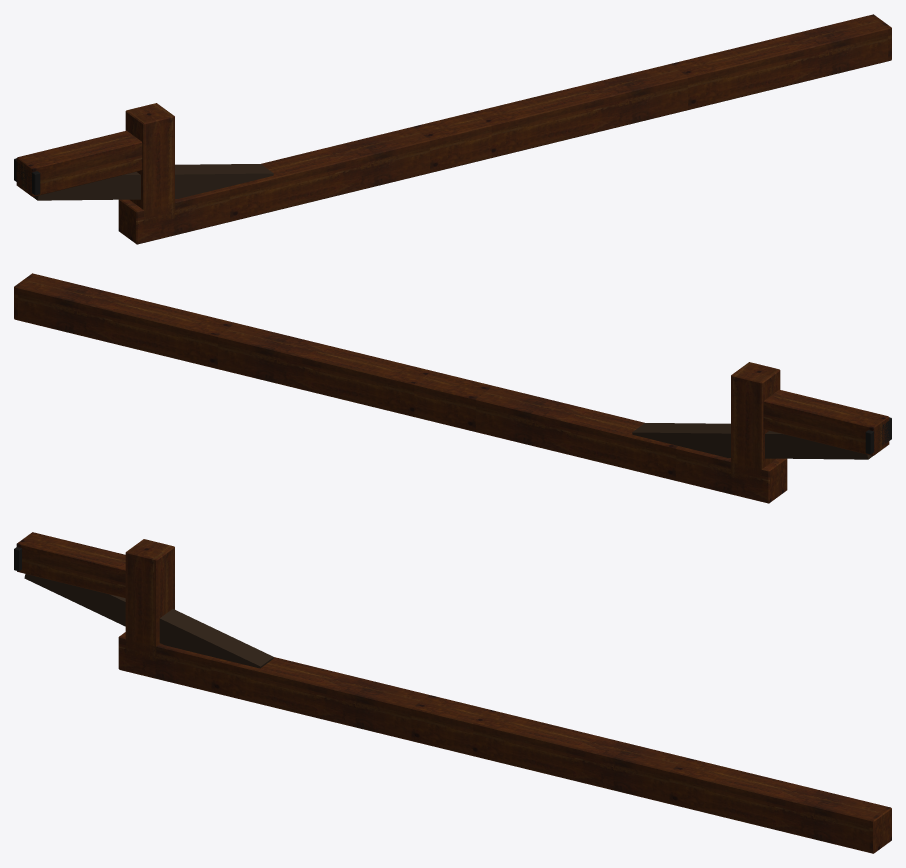
The model's file is roof-tie-595.glb.
3 renders of one model, top to bottom at view 1: azimuth 30°, elevation 25°; view 2: azimuth 150°, elevation 25°; view 3: azimuth 330°, elevation 25°, orthographic.
Visible parts, largest first — view 1: roof-tie-595; view 2: roof-tie-595; view 3: roof-tie-595.
Boxes of the visible parts, x1,y1,x2,y2 form: roof-tie-595: (14,14,891,244); roof-tie-595: (14,273,891,503); roof-tie-595: (14,532,891,853).
Bounding box in the file's own units: 3.75 × 0.5 × 0.16.
1 material, 1 textured.
